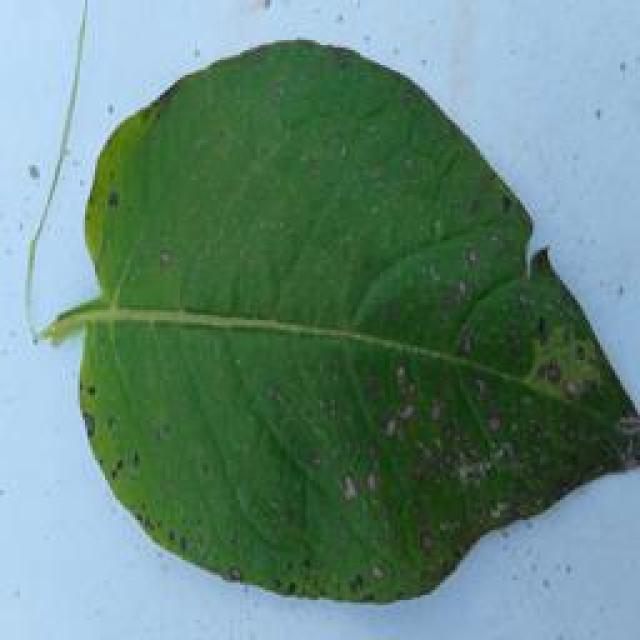Potato_Early_Blight: (62, 28, 640, 612)
